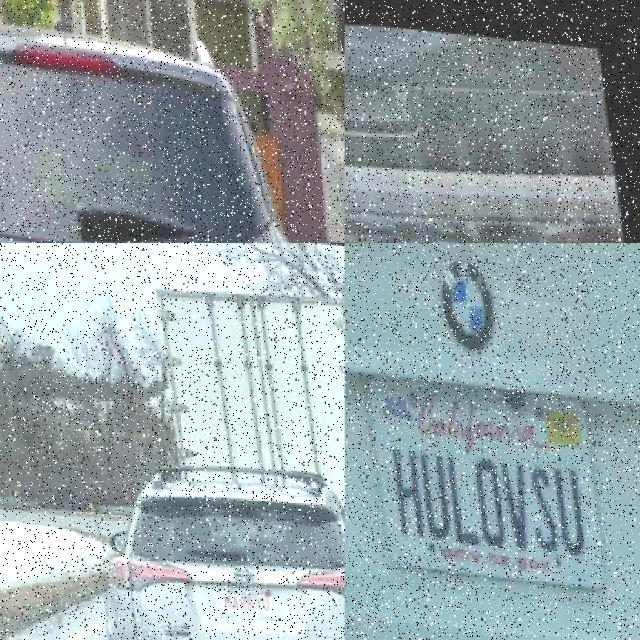licenseplate: (362, 358, 598, 594), (210, 578, 270, 611)
